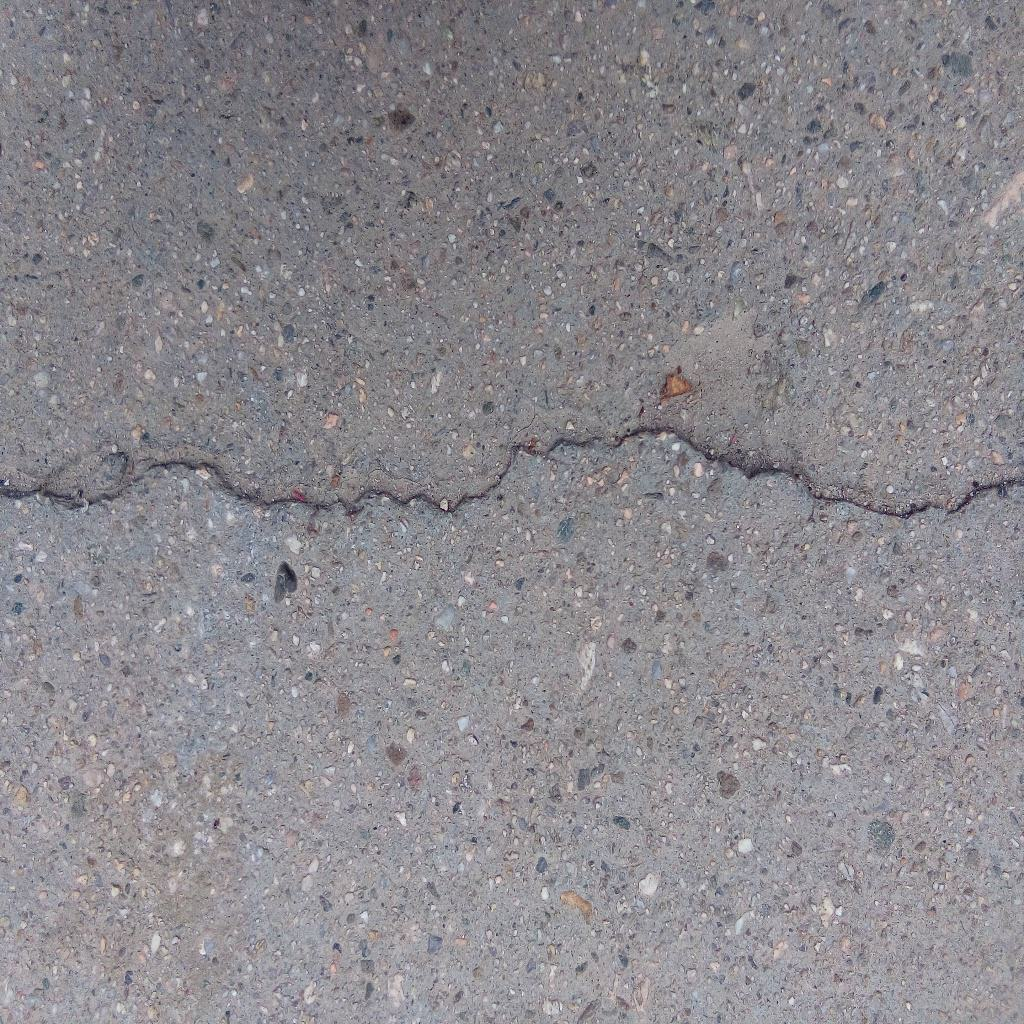Crack: (1, 425, 1024, 518)
